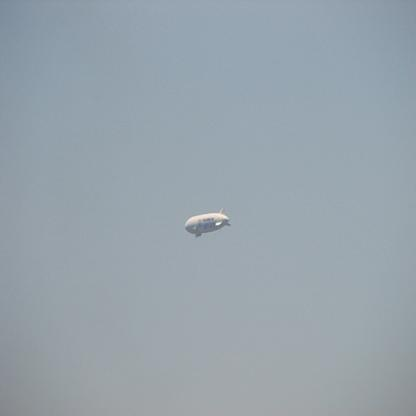Airship: (180, 203, 237, 242)
